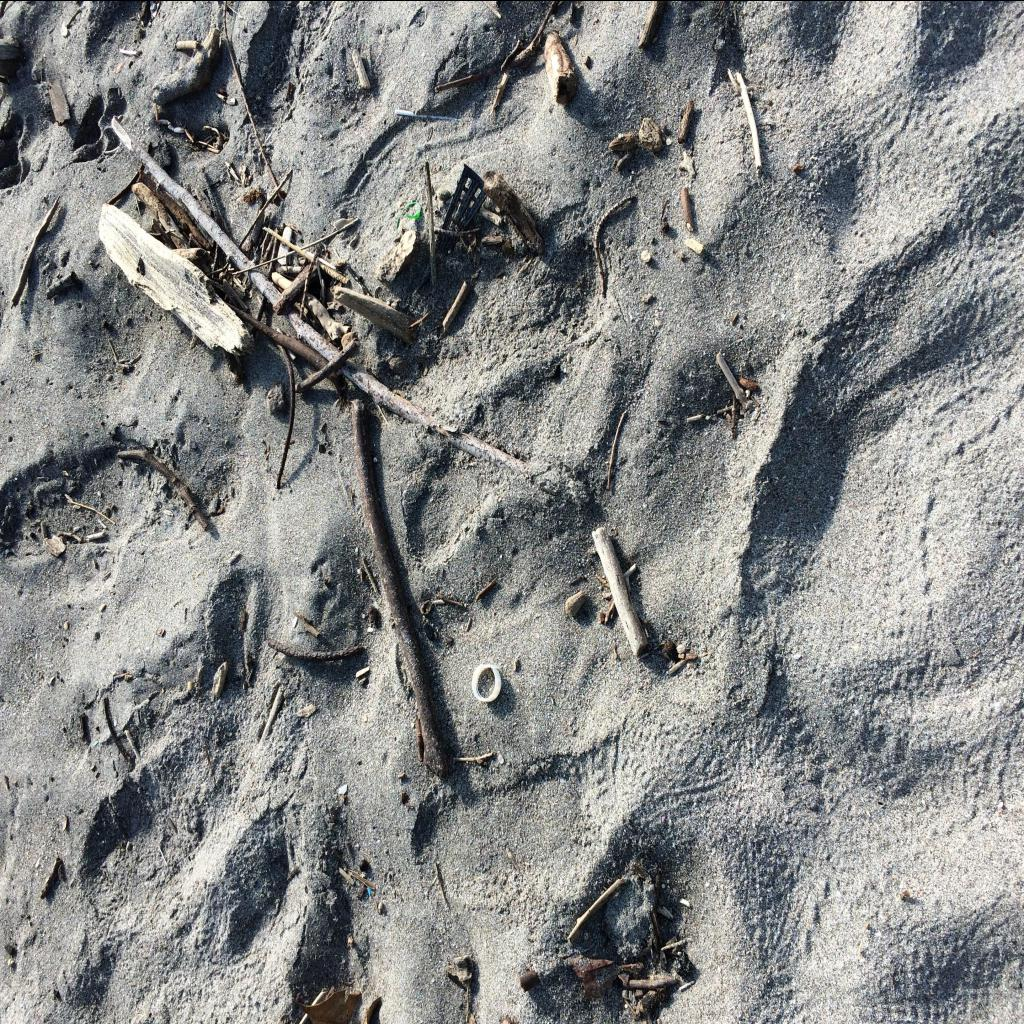Other plastic bottle: (438, 164, 486, 230), (396, 201, 420, 228), (395, 108, 456, 118)
Plastic bottle cap: (472, 662, 502, 700)
